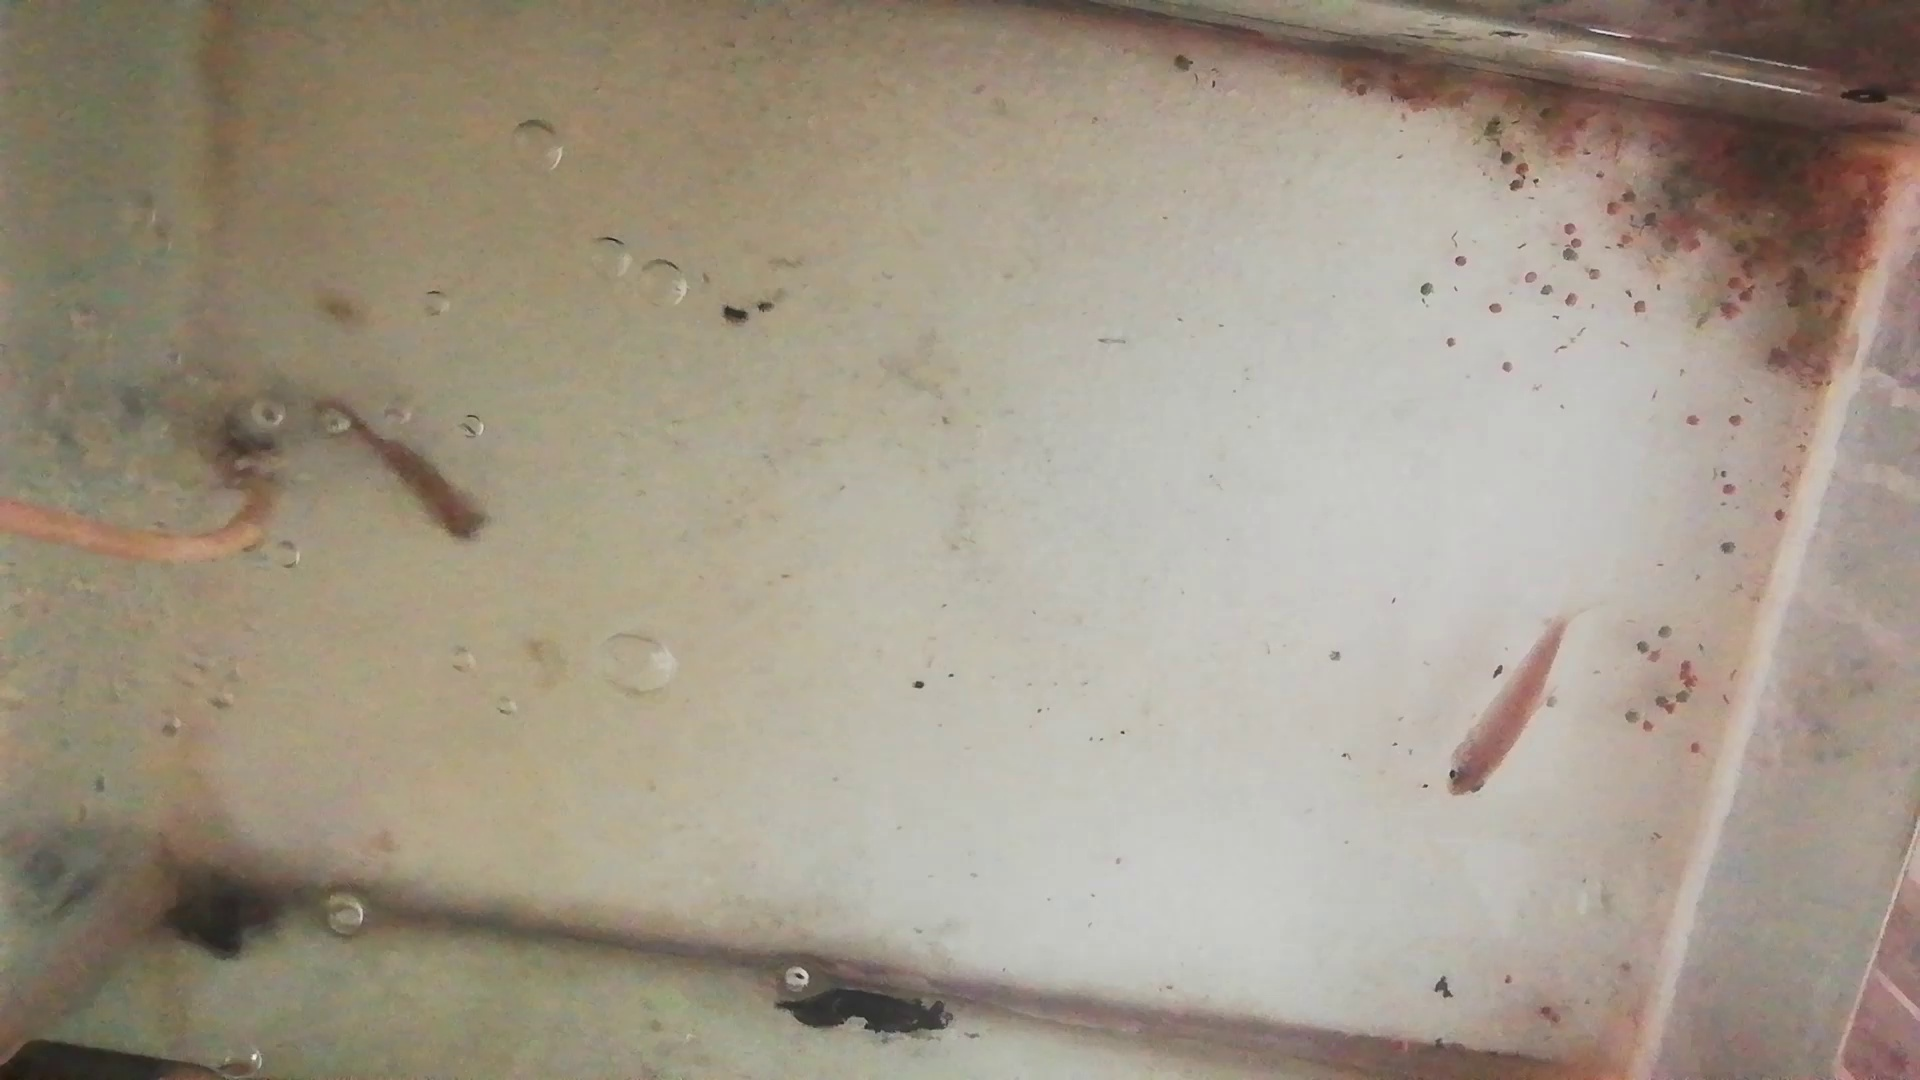fish: (313, 394, 491, 545), (1445, 622, 1563, 800)
